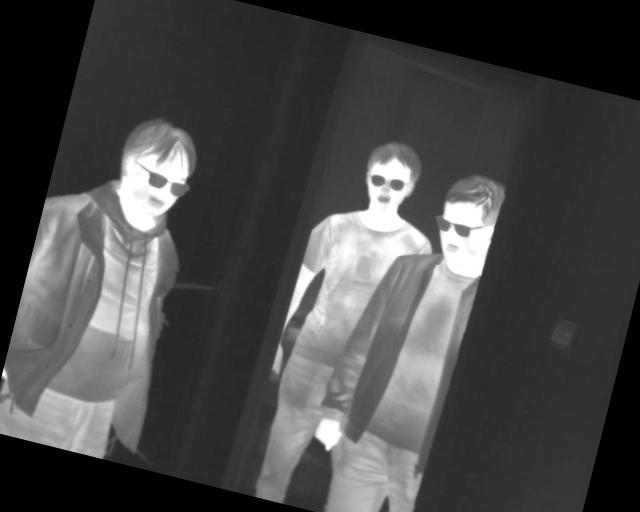face: (108, 109, 203, 223), (427, 167, 507, 274), (355, 134, 426, 220)
